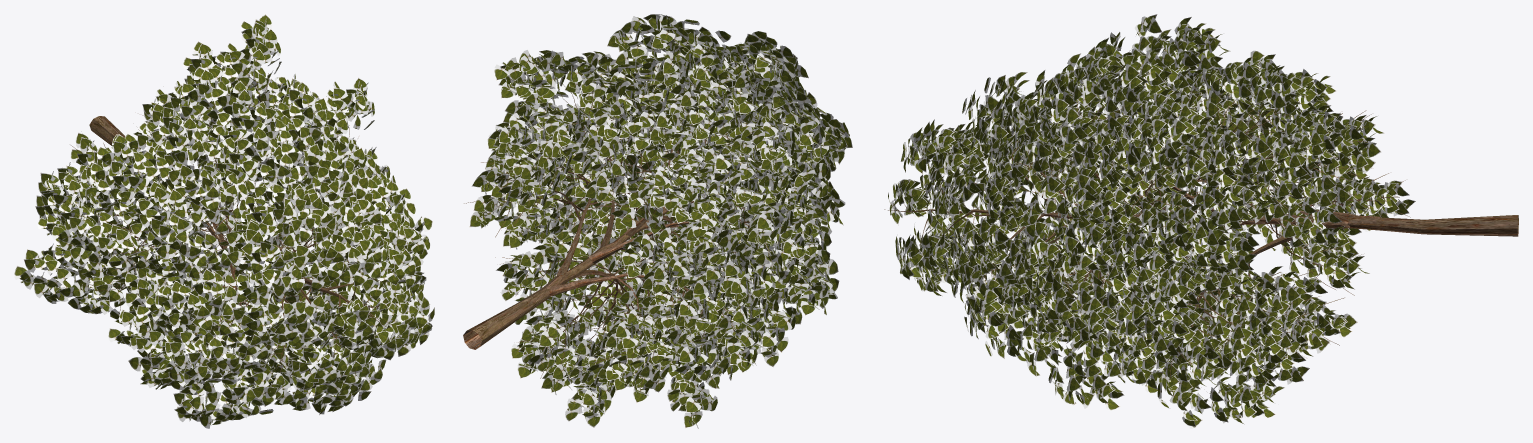
Rendered from Tree4.dae.
The picture shows the model from 3 angles, left to right: view 1: azimuth 30°, elevation 25°; view 2: azimuth 150°, elevation 25°; view 3: azimuth 270°, elevation 25°; orthographic projection. The views are drawn at different scales.
Parts seen in each view (by area): view 1: node; view 2: node; view 3: node.
Part boxes in pixels (x1,y1,x2,y2): node: (14,14,434,428); node: (463,14,852,428); node: (884,14,1518,428).
Bounding box in the file's own units: 3.04 × 3.13 × 4.75.
Materials: 2 (2 with a texture image).
